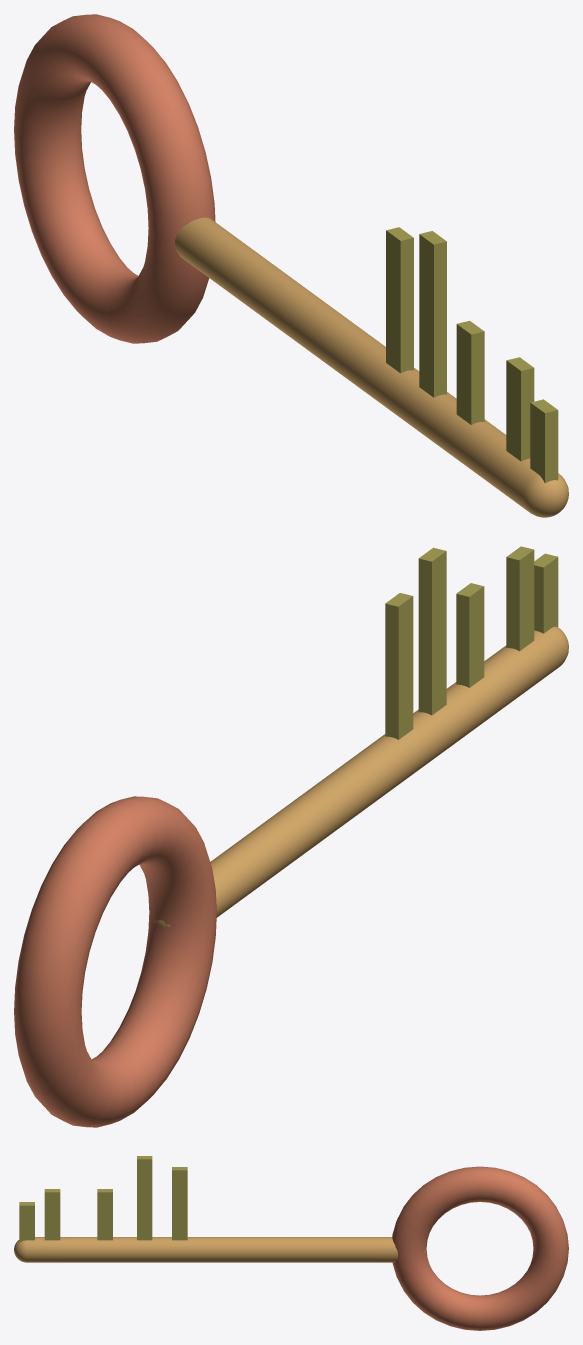
File: key.fbx
3 views of the same model, one above another, from view 1: azimuth 30°, elevation 25°; view 2: azimuth 150°, elevation 25°; view 3: azimuth 270°, elevation 25° (orthographic). The views are drawn at different scales.
Parts seen in each view (by area): view 1: Torus, Capsule, Cube_3, Cube_4, Cube_2, Cube_1, Cube; view 2: Torus, Capsule, Cube_3, Cube_4, Cube_1, Cube_2, Cube; view 3: Torus, Capsule, Cube_3, Cube_4, Cube_1, Cube_2, Cube.
Part boxes in pixels (left/top/right/bottom): Torus: left=14, top=14, right=215, bottom=343; Capsule: left=174, top=217, right=568, bottom=517; Cube_3: left=419, top=231, right=446, bottom=397; Cube_4: left=386, top=227, right=413, bottom=373; Cube_2: left=456, top=320, right=484, bottom=424; Cube_1: left=506, top=357, right=534, bottom=461; Cube: left=530, top=399, right=558, bottom=483; Torus: left=14, top=796, right=216, bottom=1127; Capsule: left=154, top=626, right=568, bottom=928; Cube_3: left=418, top=547, right=446, bottom=715; Cube_4: left=385, top=593, right=413, bottom=739; Cube_1: left=506, top=546, right=534, bottom=651; Cube_2: left=456, top=583, right=484, bottom=687; Cube: left=534, top=553, right=558, bottom=633; Torus: left=392, top=1166, right=568, bottom=1330; Capsule: left=14, top=1237, right=426, bottom=1262; Cube_3: left=137, top=1156, right=152, bottom=1240; Cube_4: left=172, top=1167, right=187, bottom=1240; Cube_1: left=44, top=1189, right=60, bottom=1240; Cube_2: left=97, top=1189, right=112, bottom=1240; Cube: left=19, top=1202, right=34, bottom=1242.
Bounding box in the file's own units: 39.39 × 213 × 624.
